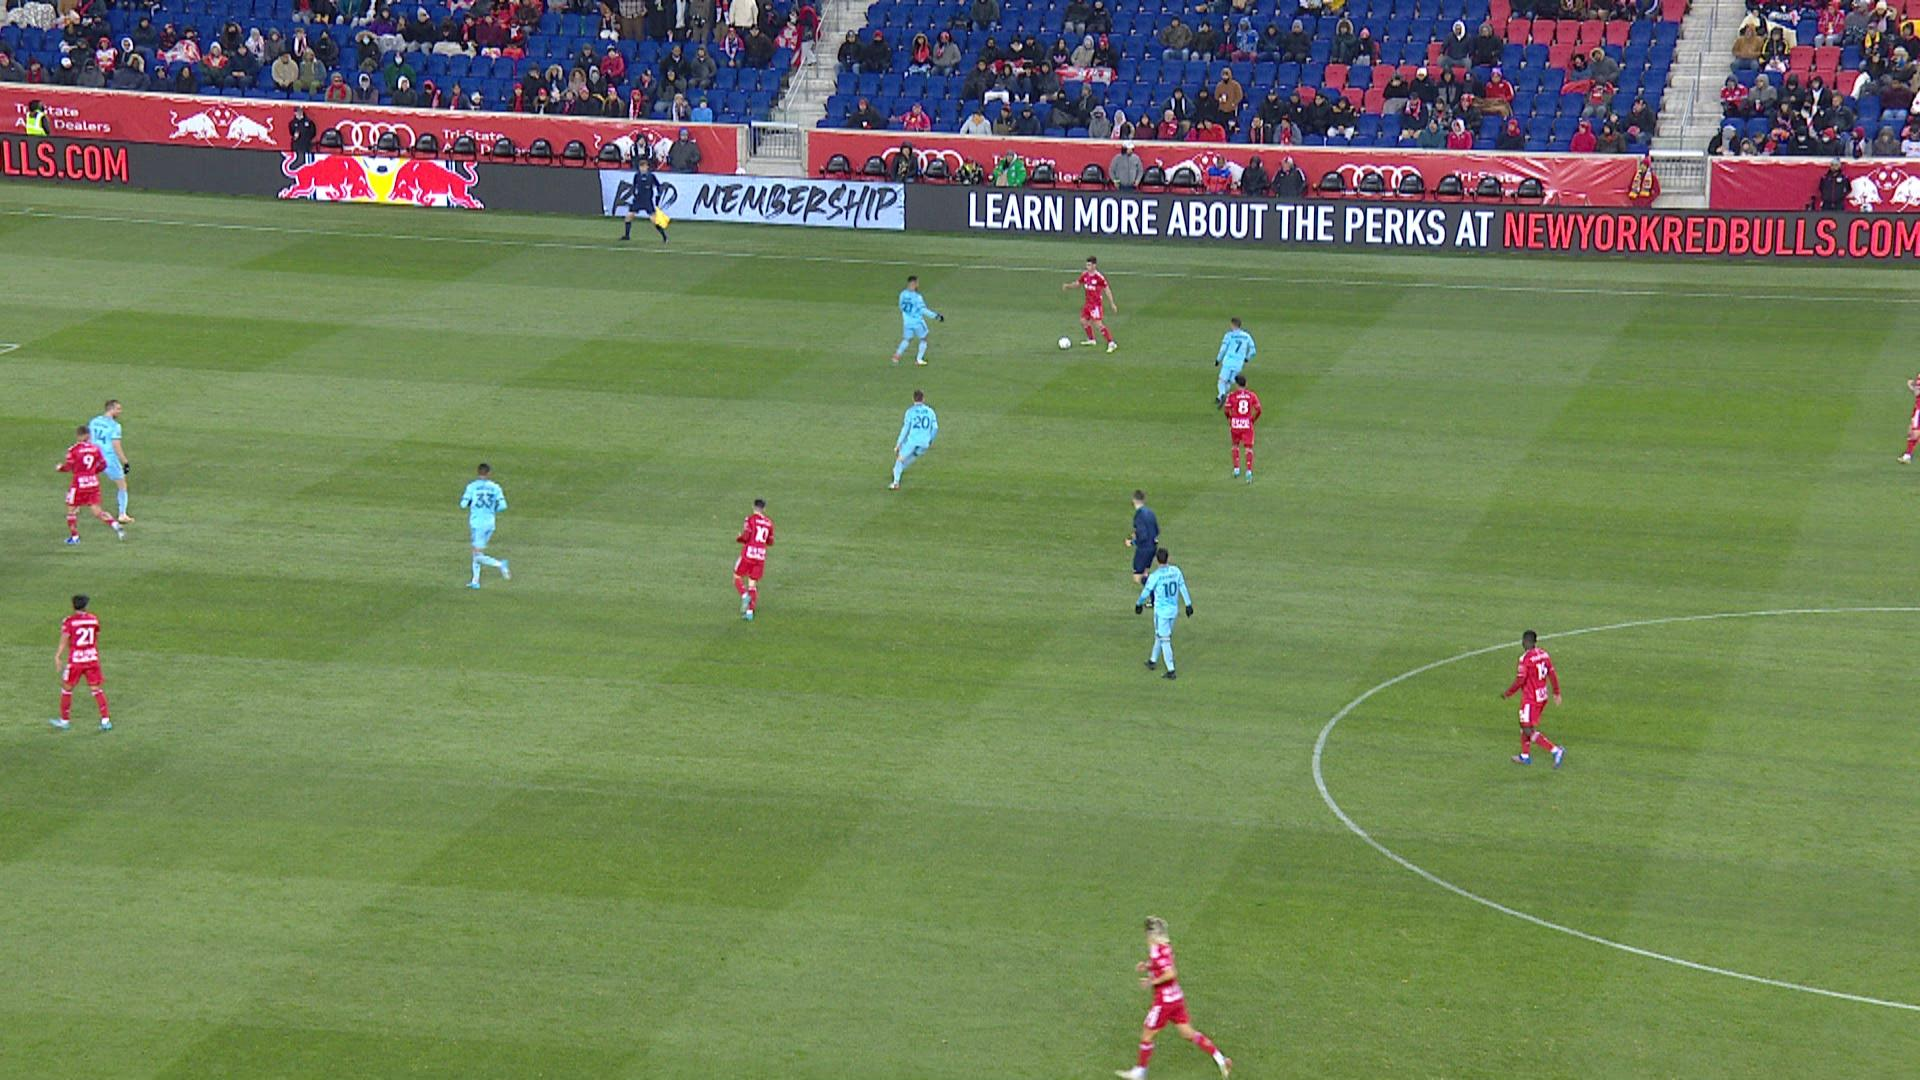football: (1058, 335, 1072, 351)
